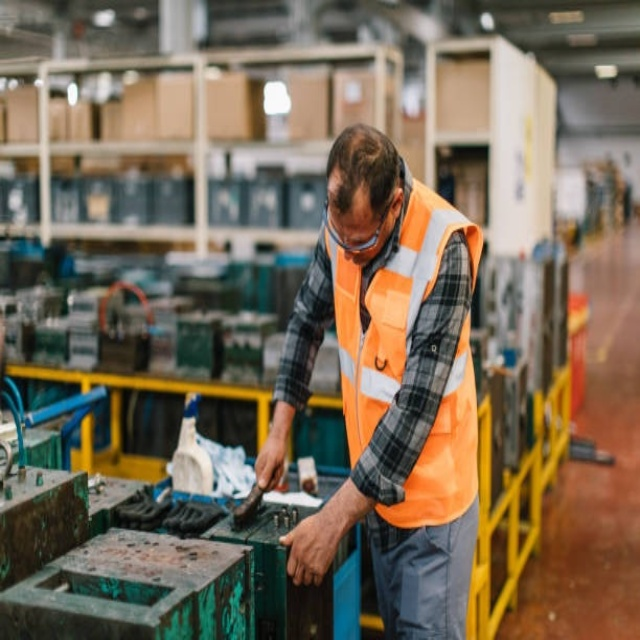Gafas: (325, 189, 394, 253)
Sin_guantes: (277, 511, 340, 588), (253, 431, 289, 495)
